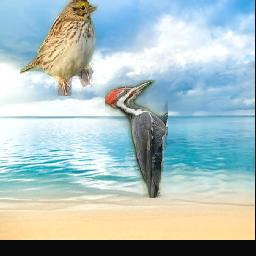Sparrow: (19, 0, 100, 97)
Woodpecker: (104, 80, 167, 198)
